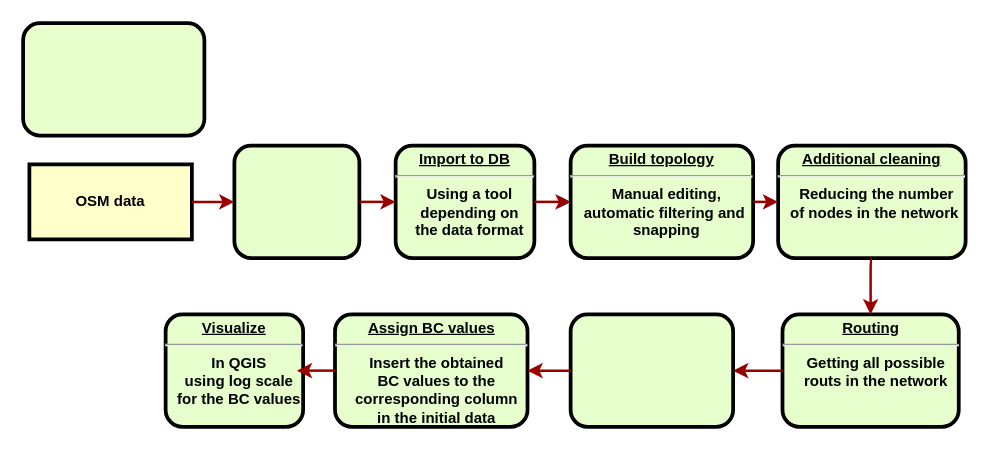
Some shapes in this 989 by 450 pixel diagram are drawn without their labels. Each missing label, with the centre of its shape:
BC calculation Aggregating and counting all road segments with the same ID: point 651,370
Extract roads Using the semantic tag "highway": point 296,201
Setup the environment Install PostgreSQL, PostGIS, pgRouting, QGIS: point 113,79
